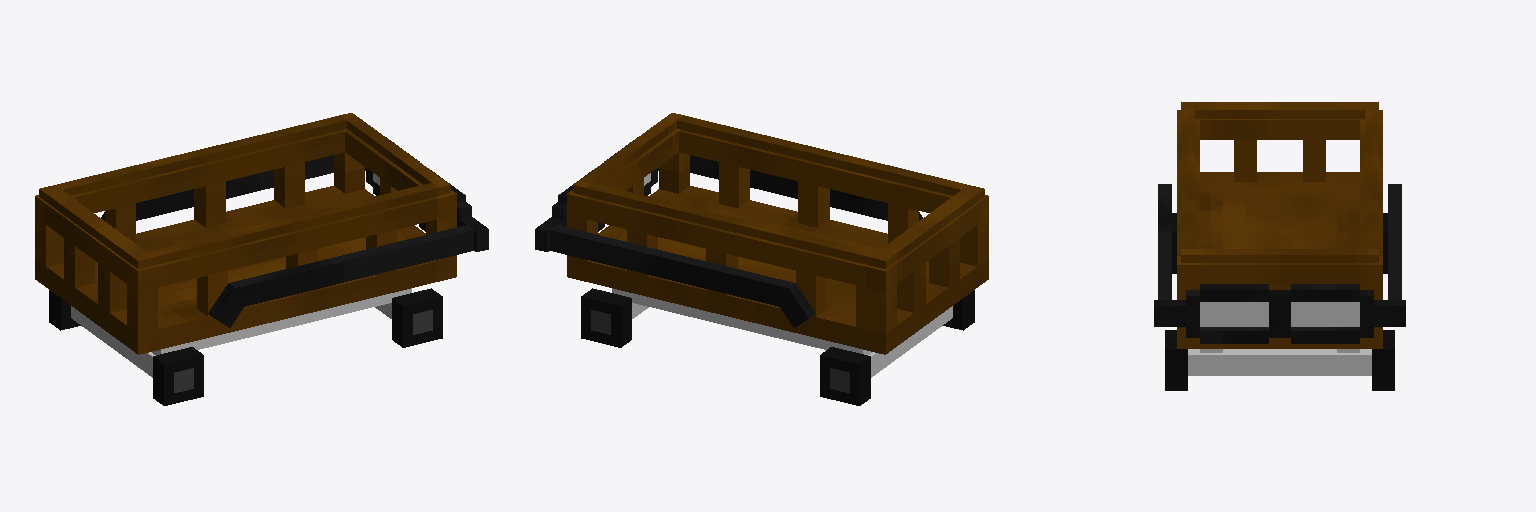
3 renders of one model, left to right at view 1: azimuth 30°, elevation 25°; view 2: azimuth 150°, elevation 25°; view 3: azimuth 270°, elevation 25°, orthographic.
Visible parts, largest first — view 1: cuboid; view 2: cuboid; view 3: cuboid.
Part boxes in pixels (left/top/right/bottom): cuboid: left=35, top=113, right=488, bottom=405; cuboid: left=535, top=113, right=988, bottom=405; cuboid: left=1154, top=102, right=1405, bottom=390.
Size of the model in its own units: 1.06 by 0.4313 by 0.6875.
5 materials, 3 textured.